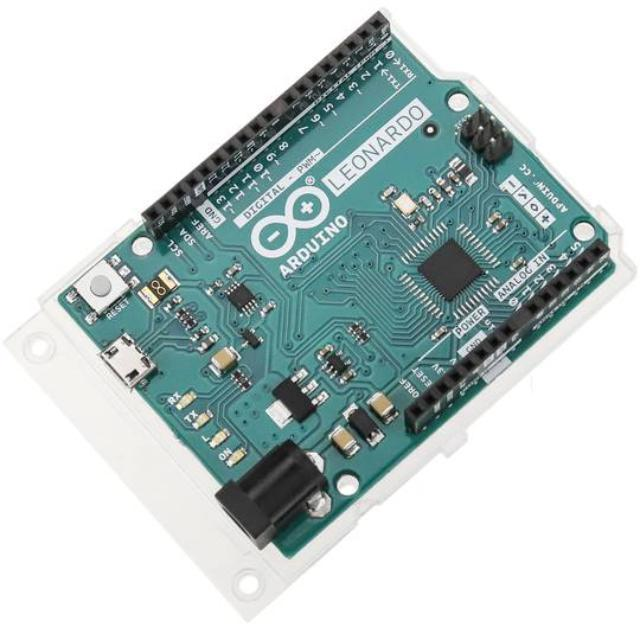Arduino-leonardo: (59, 13, 613, 559)
